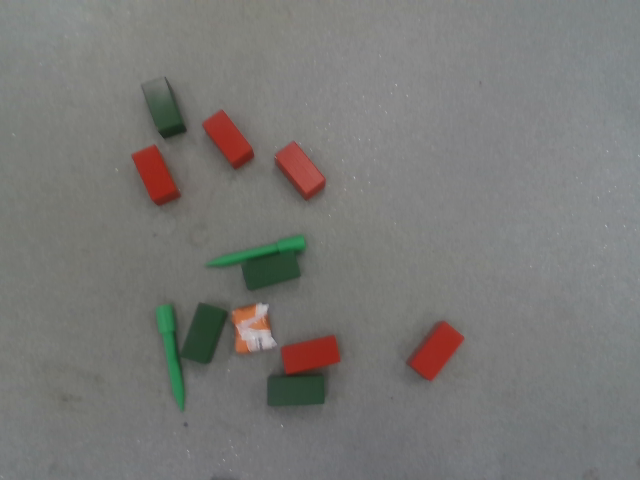Probe: (203, 233, 306, 269), (153, 303, 187, 412)
